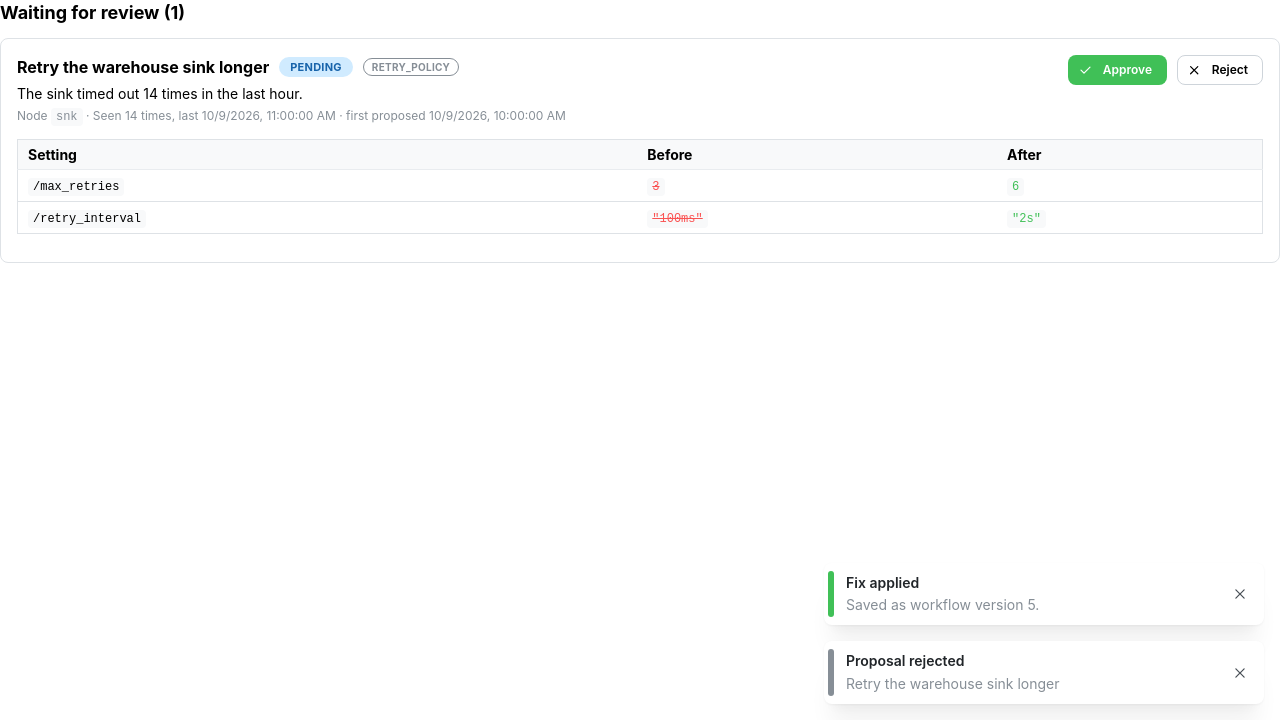
Scenario: Self-healing proposals › explains a proposal that went stale (409)
Click the button "Approve": (1118, 70) [1068,55,1167,85]
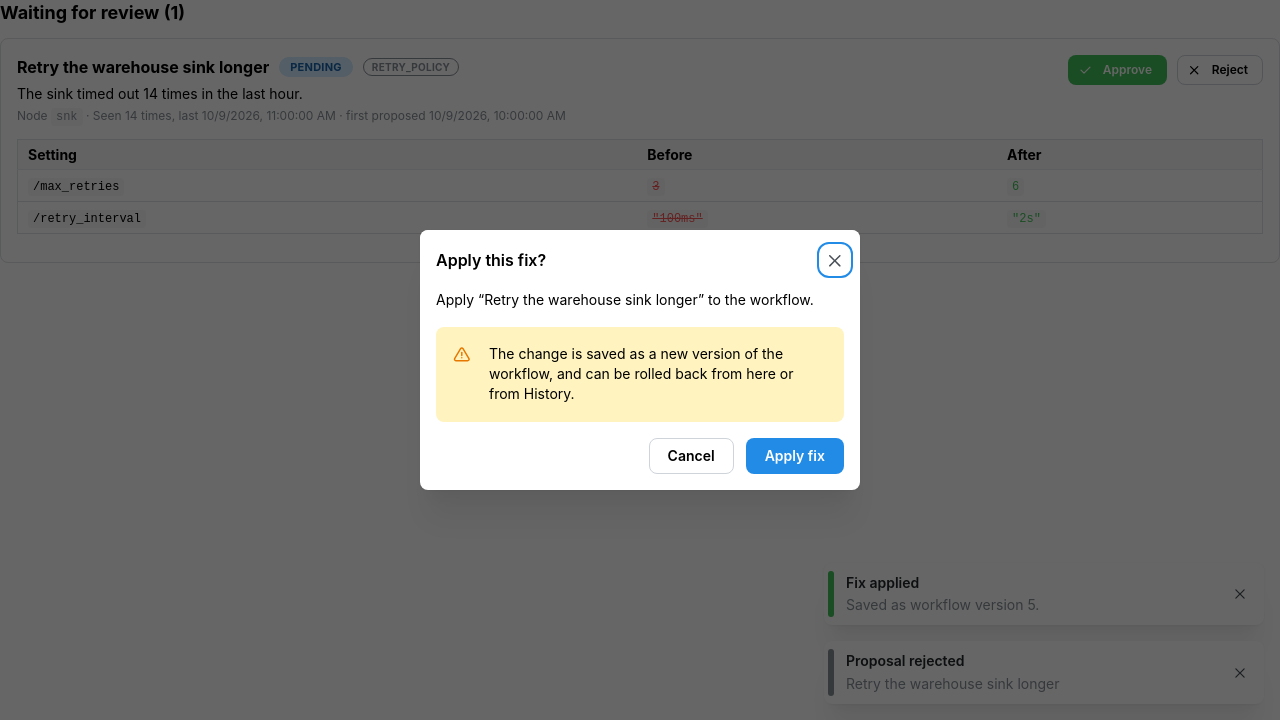
Click the button "Apply fix": (795, 456) [746,438,844,474]
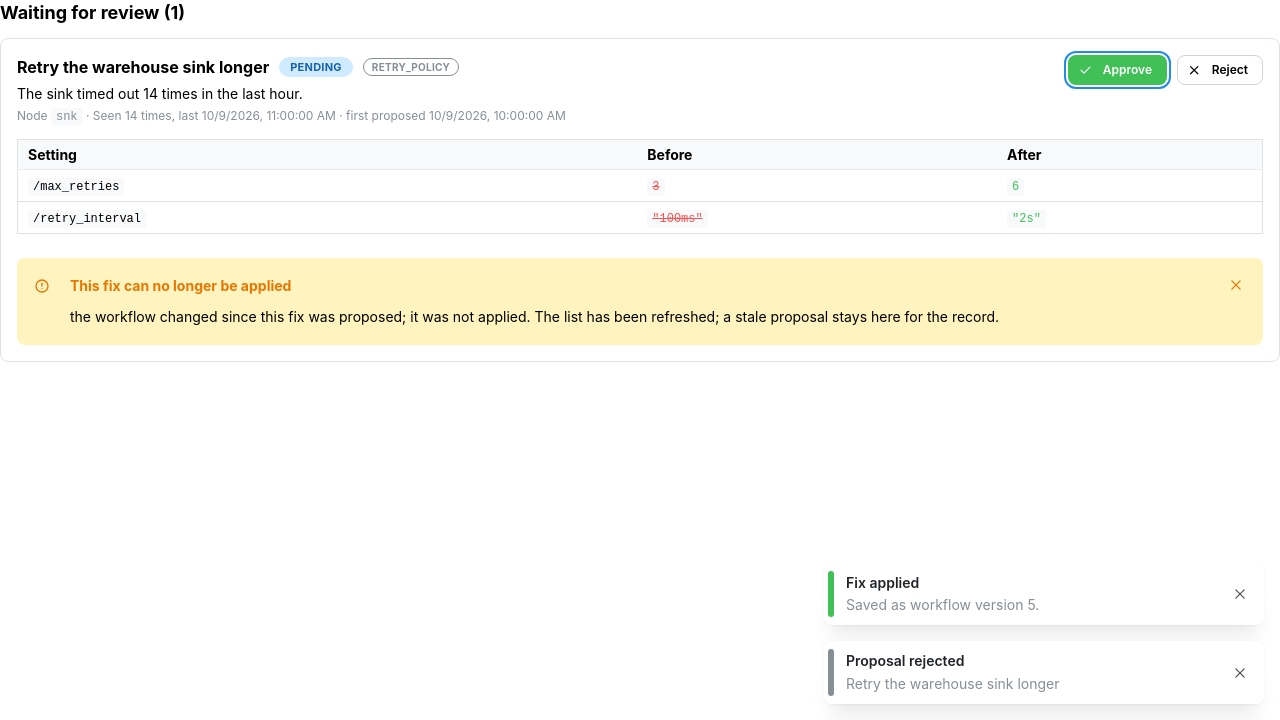
Now the text "This fix can no longer be applied" is shown, box [70,275,291,296]
Now the text "workflow changed since this fix was proposed" is shown, box [70,308,999,325]
